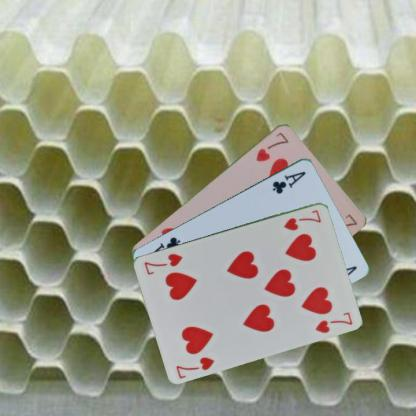7h: (253, 129, 290, 163), (173, 354, 216, 380), (282, 207, 322, 232)
Ac: (270, 168, 307, 195)
